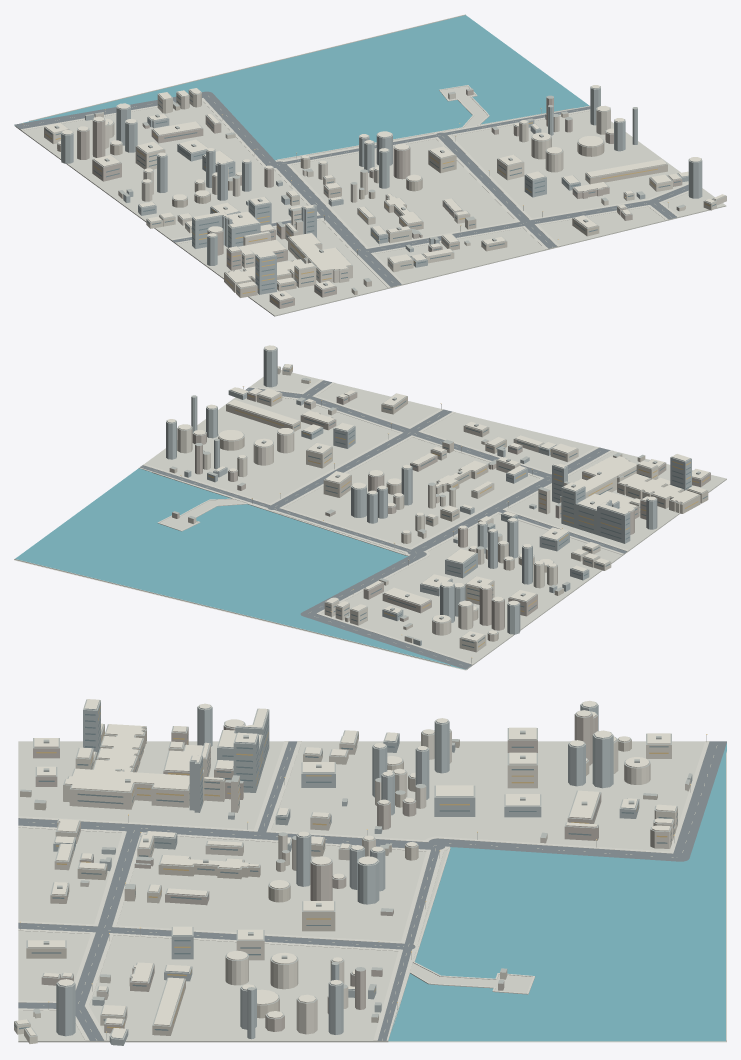
The picture shows the model from 3 angles, top to bottom: view 1: azimuth 30°, elevation 25°; view 2: azimuth 150°, elevation 25°; view 3: azimuth 270°, elevation 25°; orthographic projection. The views are drawn at different scales.
Visible parts, largest first — view 1: city; view 2: city; view 3: city.
Part boxes in pixels (x1=…): city: x1=14, y1=14, x2=726, y2=316; city: x1=14, y1=345, x2=726, y2=670; city: x1=14, y1=699, x2=726, y2=1045.
Size of the model in its own units: 517 by 40.95 by 503.
